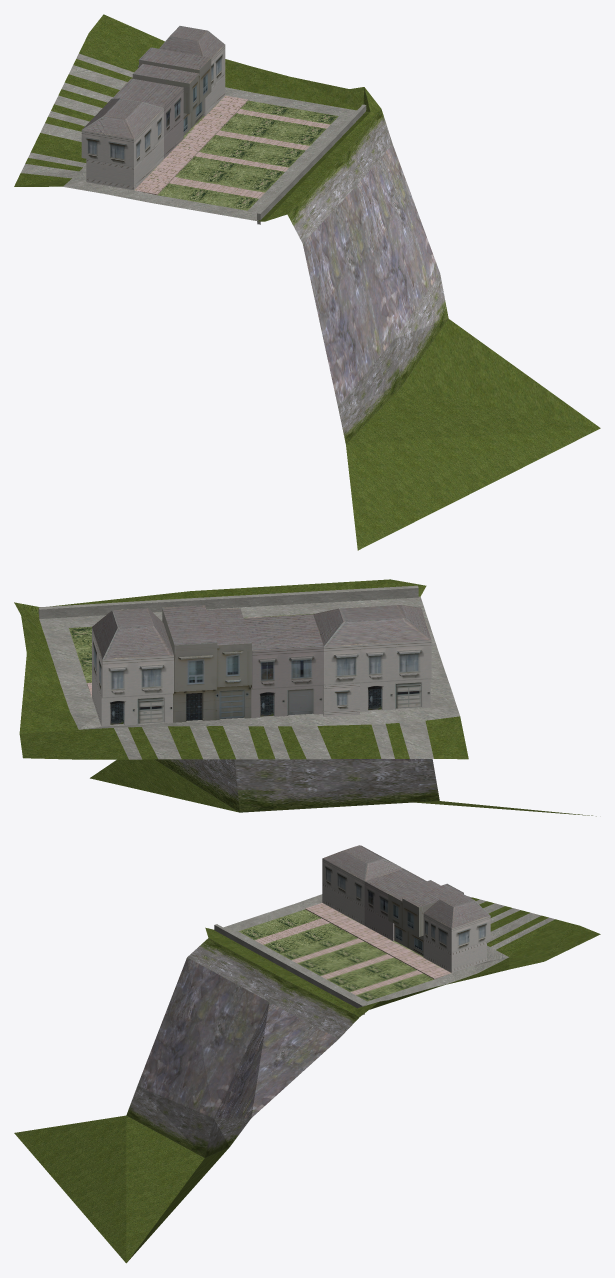
Rendered from sfw_boxwest04.obj.
3 renders of one model, top to bottom at view 1: azimuth 30°, elevation 25°; view 2: azimuth 150°, elevation 25°; view 3: azimuth 270°, elevation 25°, orthographic. The views are drawn at different scales.
Visible parts, largest first — view 1: sfw_boxwest04; view 2: sfw_boxwest04; view 3: sfw_boxwest04.
Boxes of the visible parts, left/top/right/bottom form: sfw_boxwest04: left=14, top=14, right=600, bottom=550; sfw_boxwest04: left=14, top=579, right=596, bottom=816; sfw_boxwest04: left=14, top=845, right=600, bottom=1263.
Bounding box in the file's own units: 63.3 × 43.43 × 85.72.
12 materials, 12 textured.
